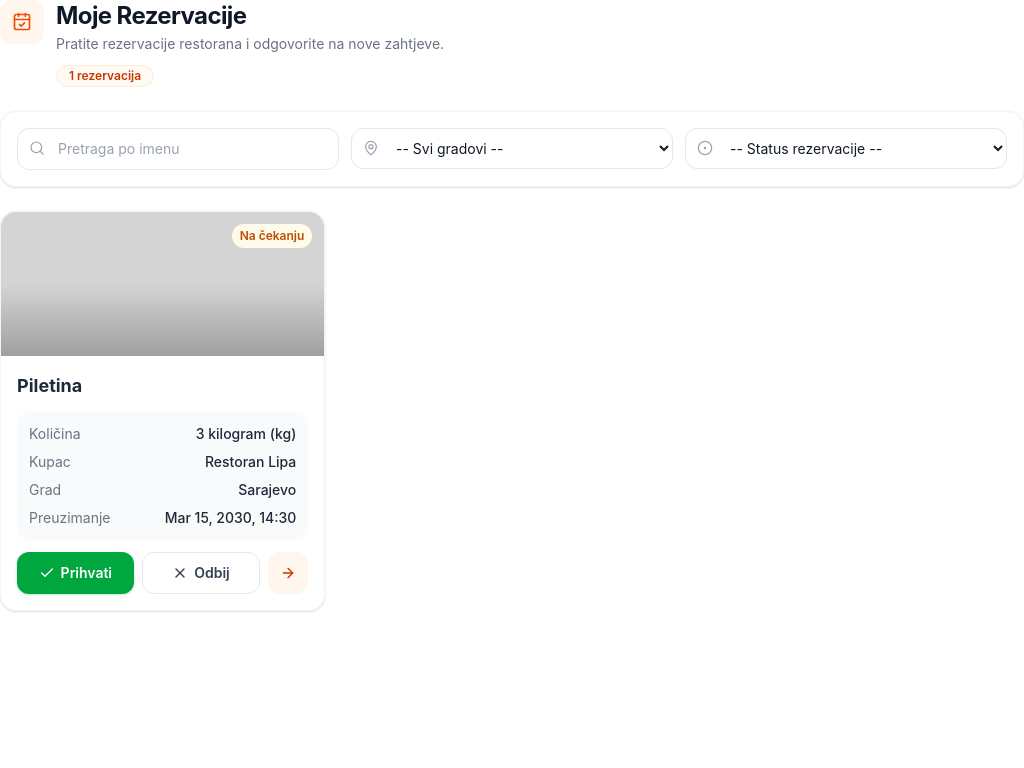
Test: accepting a reservation on ReservationsPage › sends nothing after cancelling
This screenshot has width=1024, height=768.
Click the button "Prihvati" at {"x": 75, "y": 573}, box [17,552,134,594]
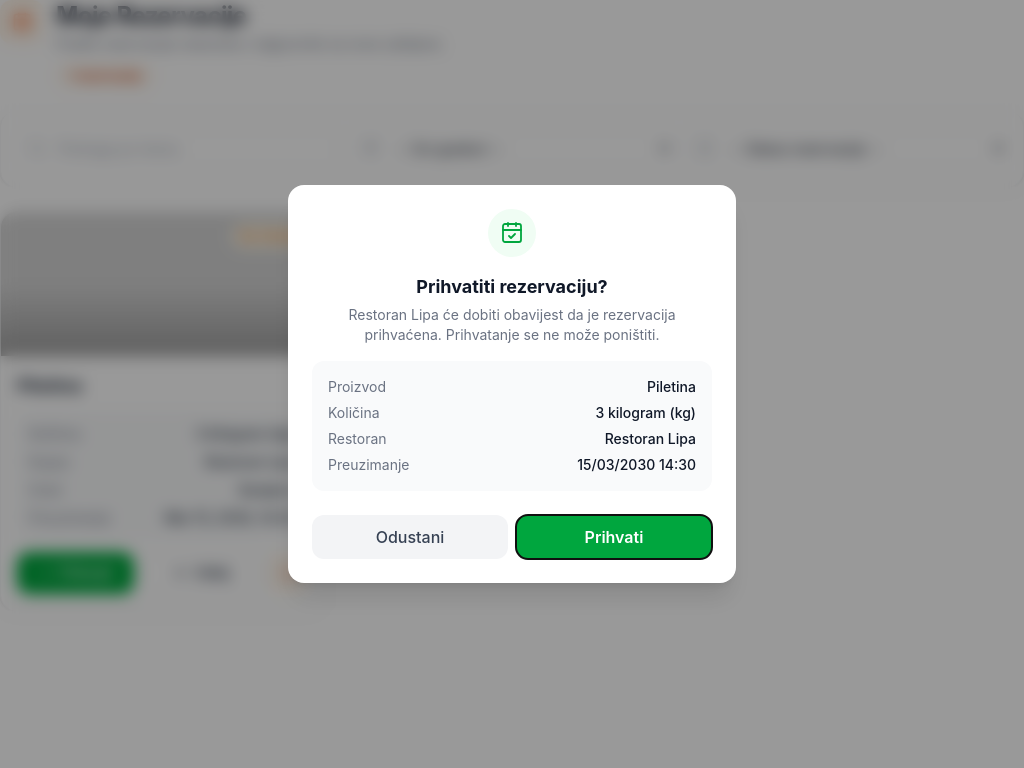
Click the button "Odustani" at {"x": 410, "y": 537}, box [312,515,508,559]
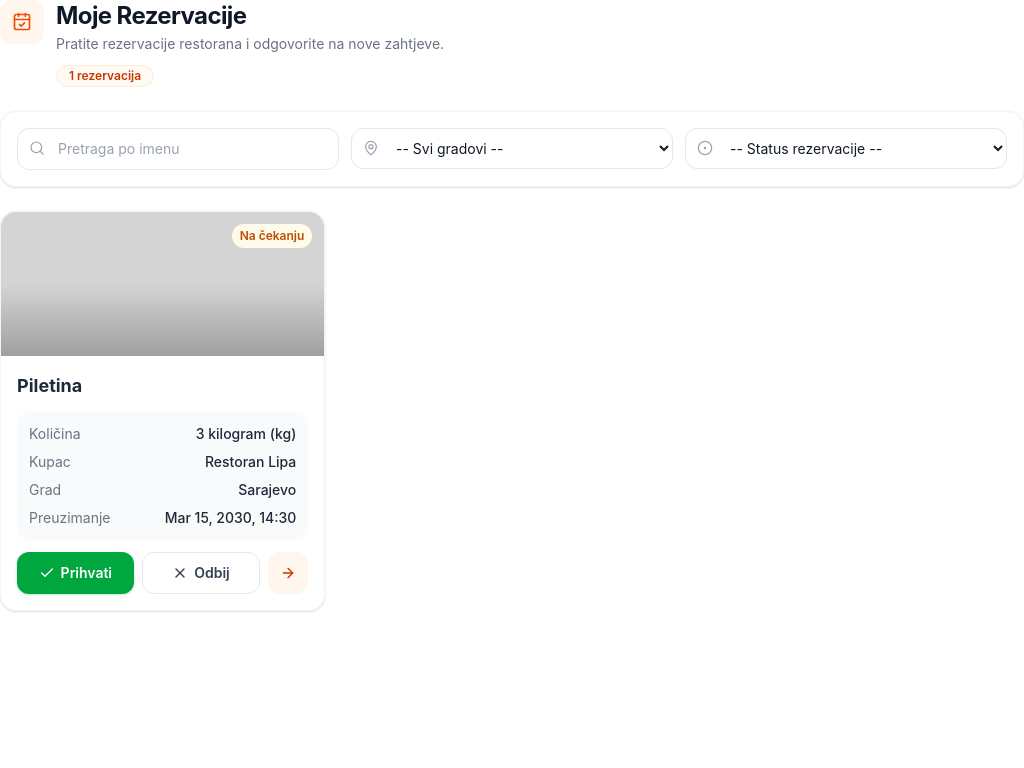
expect the dialog is gone: met
